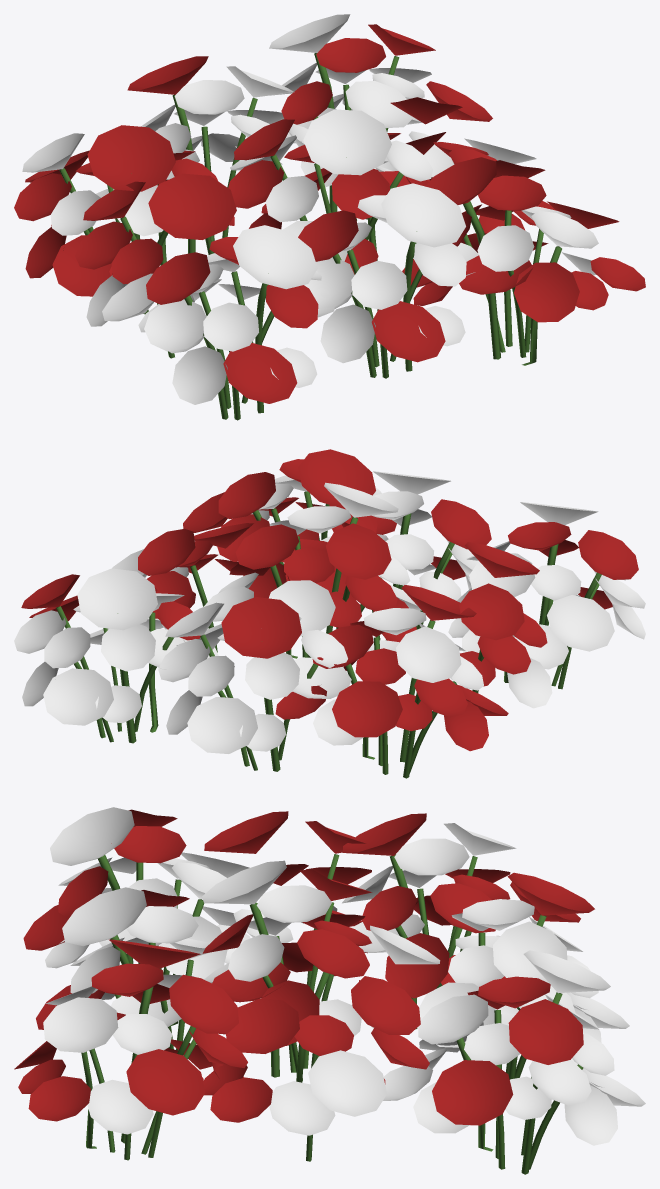
File: SM_flowers_01.fbx
3 renders of one model, top to bottom at view 1: azimuth 30°, elevation 25°; view 2: azimuth 150°, elevation 25°; view 3: azimuth 270°, elevation 25°, orthographic. The views are drawn at different scales.
Parts seen in each view (by area): view 1: Box049; view 2: Box049; view 3: Box049.
Boxes of the visible parts, x1=… form: Box049: x1=14, y1=14, x2=645, y2=420; Box049: x1=14, y1=449, x2=645, y2=778; Box049: x1=14, y1=807, x2=645, y2=1174.
Bounding box in the file's own units: 48.96 × 20.34 × 49.99.
